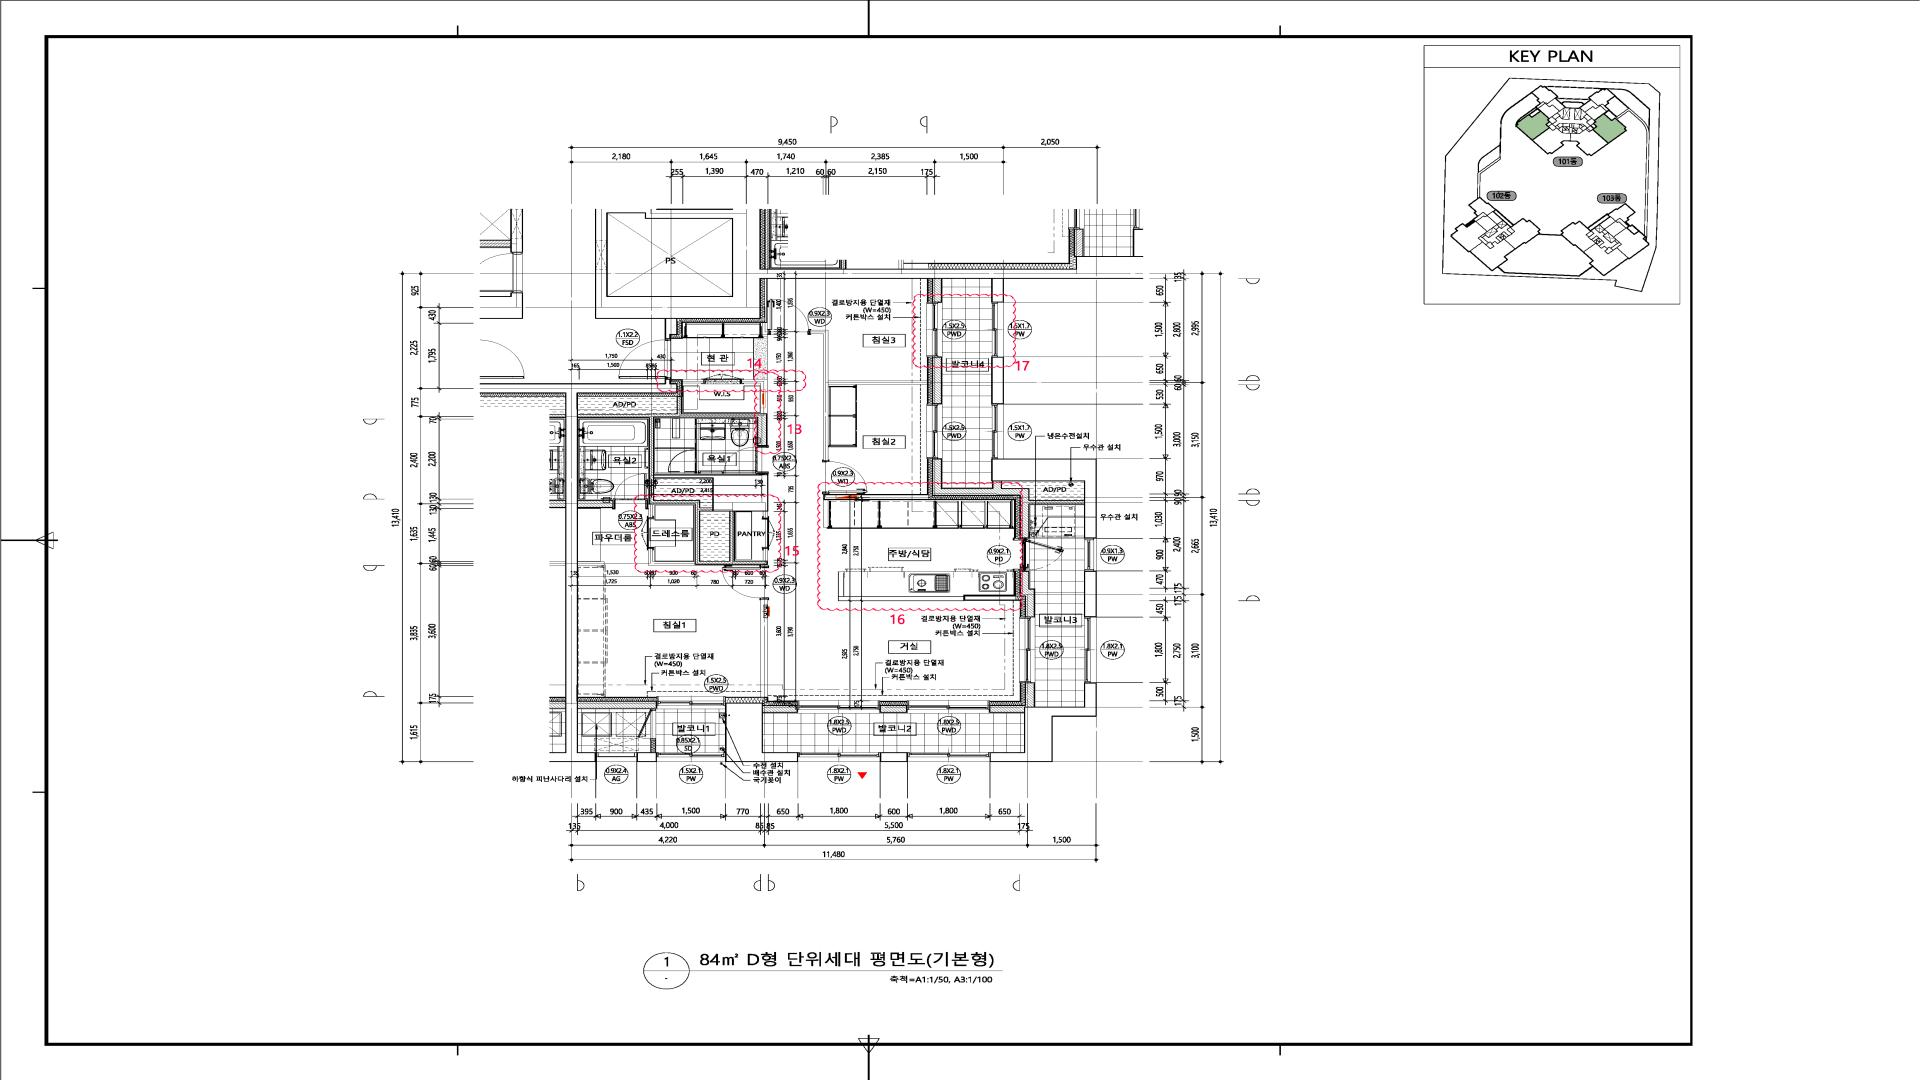door: (618, 339, 671, 378), (479, 252, 524, 293), (823, 460, 868, 495), (721, 566, 767, 599), (1019, 538, 1064, 571), (767, 299, 808, 334), (724, 446, 767, 475), (613, 473, 649, 508), (669, 450, 696, 473), (637, 708, 657, 738), (762, 518, 775, 549), (641, 517, 653, 549), (703, 373, 741, 382)
wall: (480, 378, 678, 762), (595, 208, 1004, 339), (578, 380, 769, 566), (808, 330, 928, 460), (932, 458, 1084, 538), (990, 683, 1097, 762), (992, 459, 1097, 538), (654, 479, 729, 562), (725, 703, 798, 762), (989, 683, 1035, 713), (480, 293, 524, 319), (1019, 571, 1035, 617), (761, 597, 767, 698), (1084, 571, 1097, 617), (992, 357, 1004, 405), (823, 495, 928, 500), (578, 702, 657, 708), (932, 357, 943, 404), (595, 208, 608, 240), (963, 595, 1015, 601), (880, 752, 909, 762), (578, 500, 613, 508), (762, 705, 798, 713), (932, 278, 943, 302), (480, 240, 510, 248), (880, 705, 907, 713), (637, 752, 657, 762), (510, 239, 524, 252), (578, 562, 604, 566), (650, 738, 657, 752), (682, 380, 703, 384), (762, 322, 767, 338)
window: (907, 700, 989, 713), (798, 700, 880, 713), (1019, 617, 1035, 683), (657, 696, 725, 709), (907, 752, 990, 762), (927, 404, 943, 459), (927, 302, 943, 357), (1084, 617, 1097, 683), (798, 752, 880, 762), (657, 752, 725, 762), (992, 302, 1004, 357), (992, 405, 1004, 459), (1084, 538, 1097, 571), (596, 752, 637, 762), (510, 208, 524, 239), (595, 240, 608, 269)
